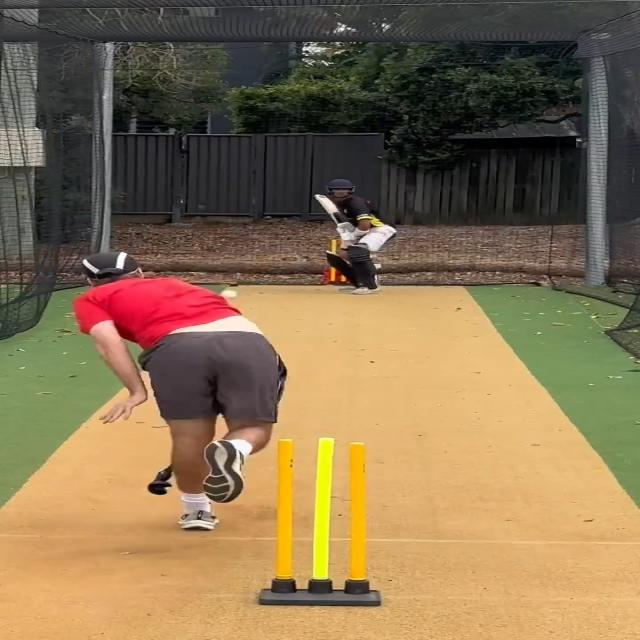ball: (221, 289, 238, 299)
stump: (258, 436, 384, 608)
